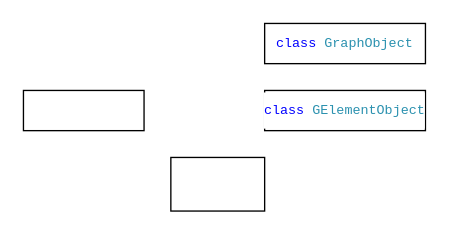
The diagram is 449 pixels wide and 235 high, and some of its shapes have lost their labels. Here are the shapes that lost their labels. From the top down, the centre of each, then its label:
pixel 83 110: class CDescInfo
pixel 217 183: GElement
